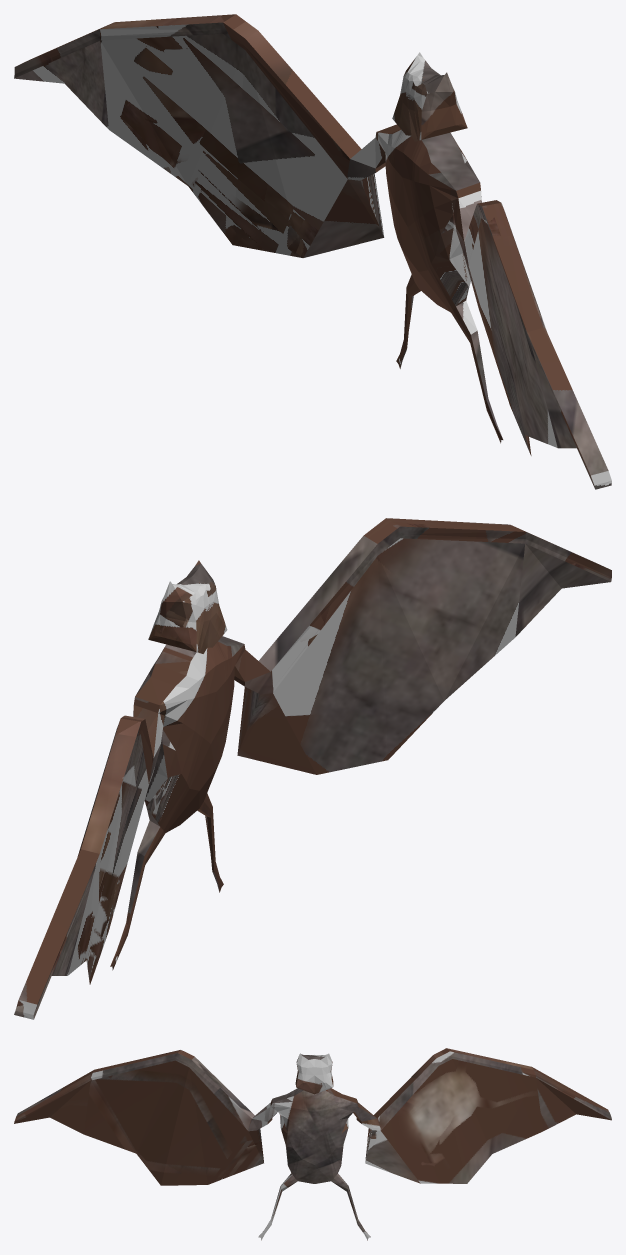
Rendered from Enemigo14.obj.
3 views of the same model, one above another, from view 1: azimuth 30°, elevation 25°; view 2: azimuth 150°, elevation 25°; view 3: azimuth 270°, elevation 25° (orthographic). The views are drawn at different scales.
Parts seen in each view (by area): view 1: Plano; view 2: Plano; view 3: Plano.
Part boxes in pixels (bbox=[...]): Plano: bbox=[14, 14, 611, 489]; Plano: bbox=[14, 518, 611, 1019]; Plano: bbox=[14, 1048, 611, 1240].
Bounding box in the file's own units: 0.3817 × 0.7588 × 2.24.
1 material, 1 textured.
